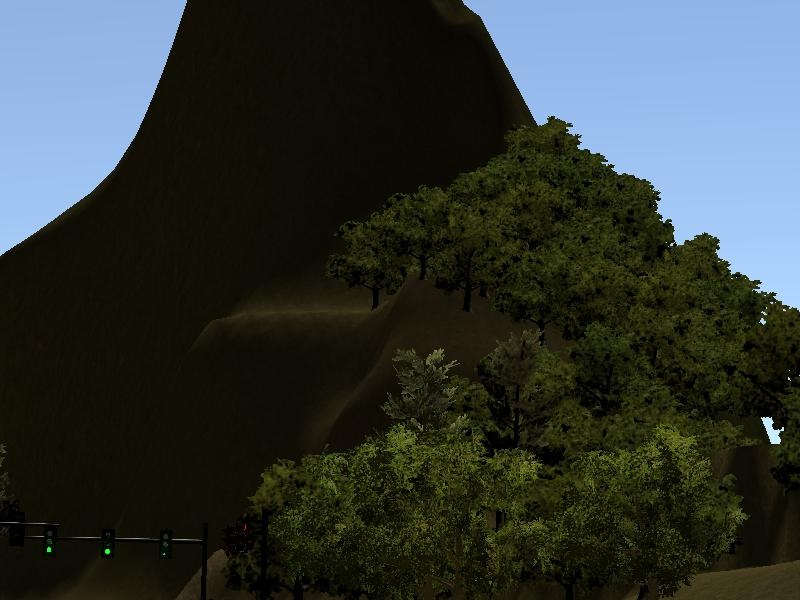GREEN: (96, 521, 117, 566), (40, 515, 56, 563)
